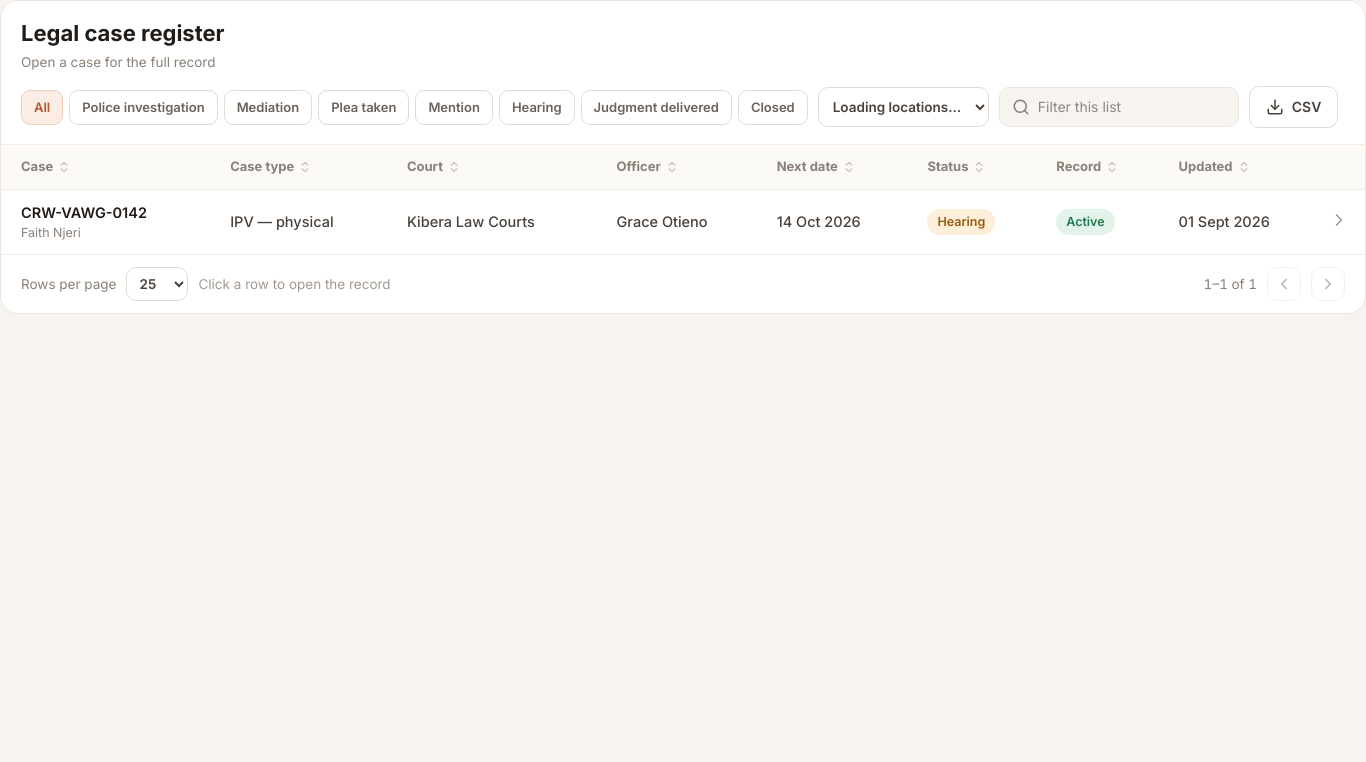
Scenario: VAWG case register › opens the edit dialog and hides the drawer meanwhile
Click the button named "Open CRW-VAWG-0142": {"x": 1339, "y": 220} [1327,208,1351,232]
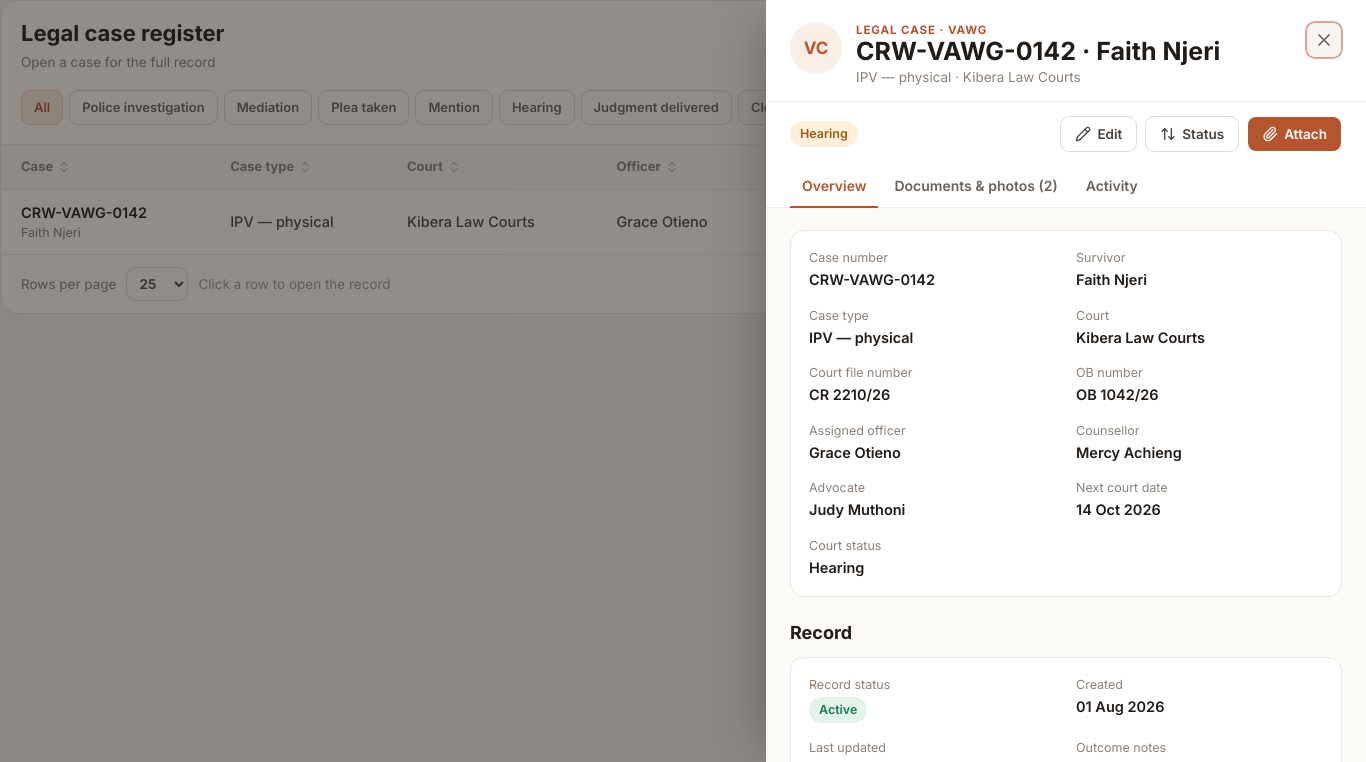
Now the tab "Documents & photos (2)" is shown, box [882,166,1070,208]
Click the button "Edit": {"x": 1099, "y": 134} [1060,116,1137,152]
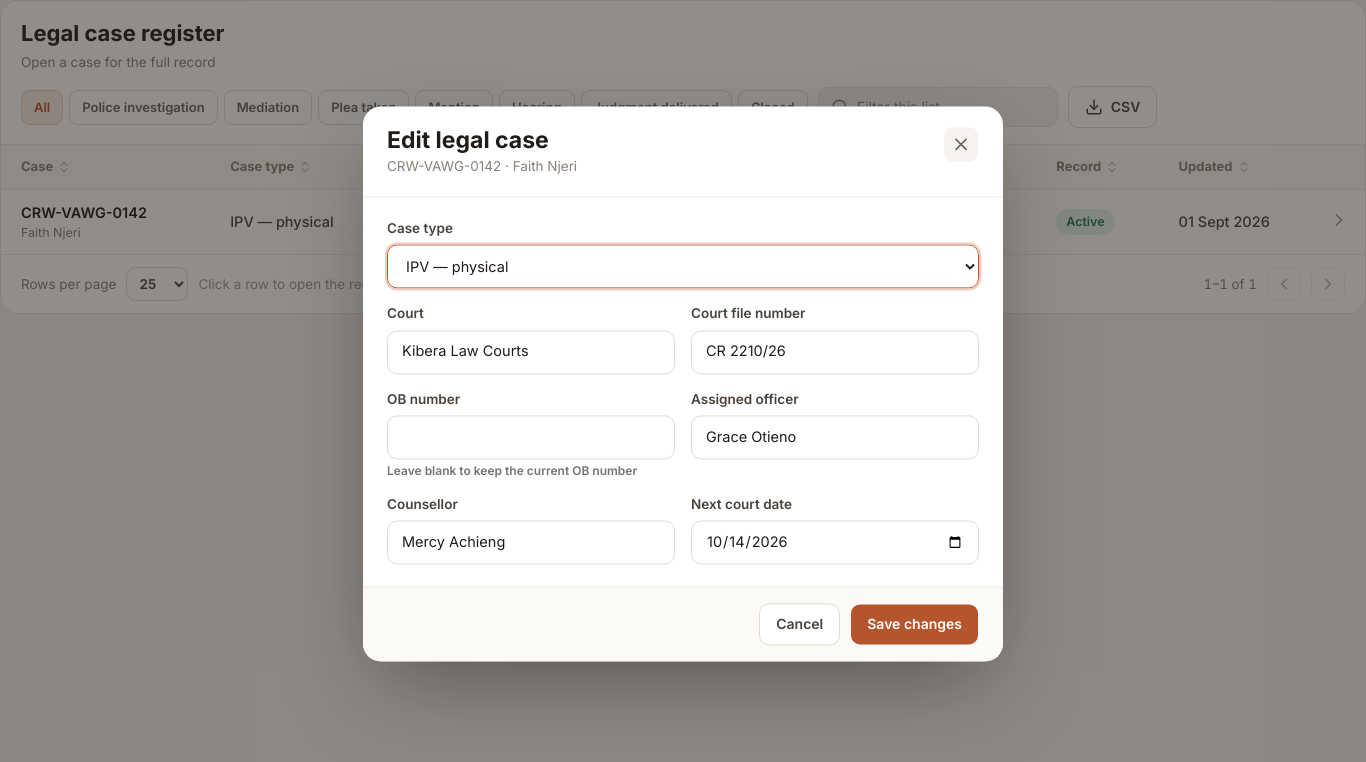
Now the dialog "Edit legal case" is shown, box [363,106,1003,662]
